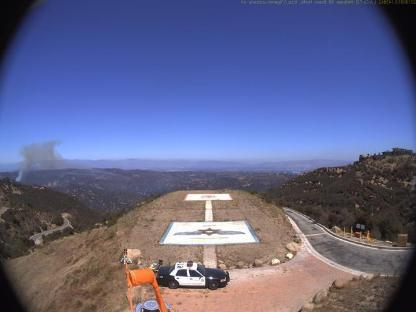smoke: (14, 135, 76, 187)
